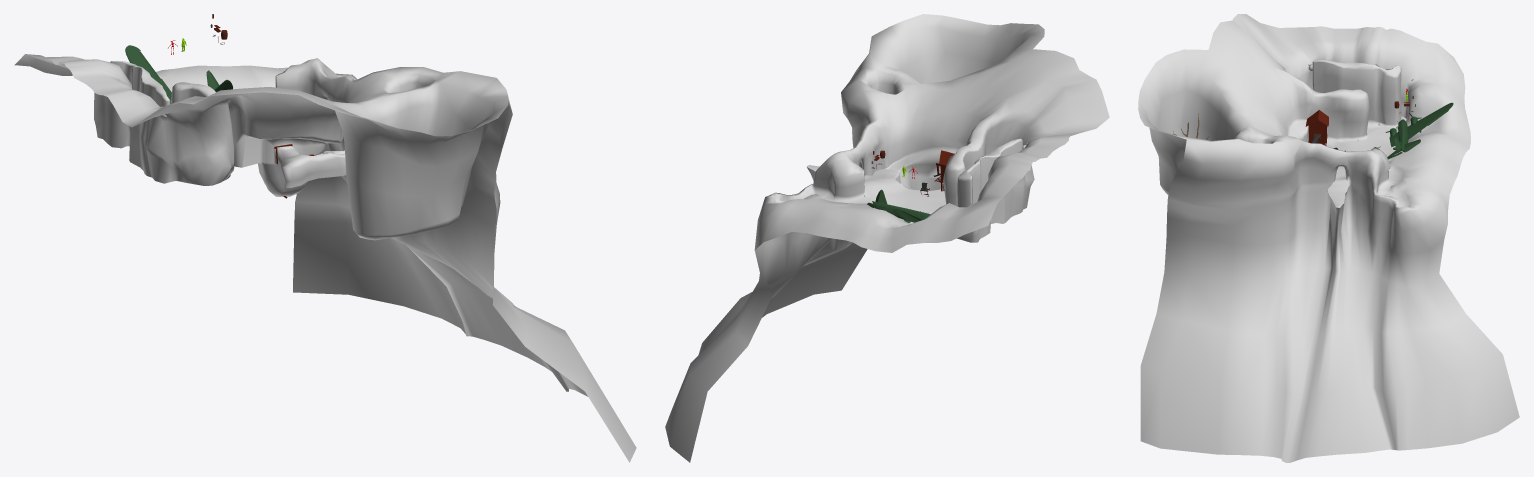
File: BaseDupsChar_Together.fbx
3 renders of one model, left to right at view 1: azimuth 30°, elevation 25°; view 2: azimuth 150°, elevation 25°; view 3: azimuth 270°, elevation 25°, orthographic. The views are drawn at different scales.
Parts seen in each view (by area): view 1: Terrain, Body; view 2: Terrain, Body; view 3: Terrain, Body, Shed.
Part boxes in pixels (x1=…): Terrain: x1=14, y1=54, x2=636, y2=462; Body: x1=125, y1=45, x2=227, y2=103; Terrain: x1=665, y1=14, x2=1109, y2=462; Body: x1=868, y1=190, x2=930, y2=222; Terrain: x1=1138, y1=14, x2=1519, y2=462; Body: x1=1387, y1=102, x2=1453, y2=158; Shed: x1=1305, y1=110, x2=1328, y2=145.
Size of the model in its own units: 73.41 by 65.4 by 73.91.
